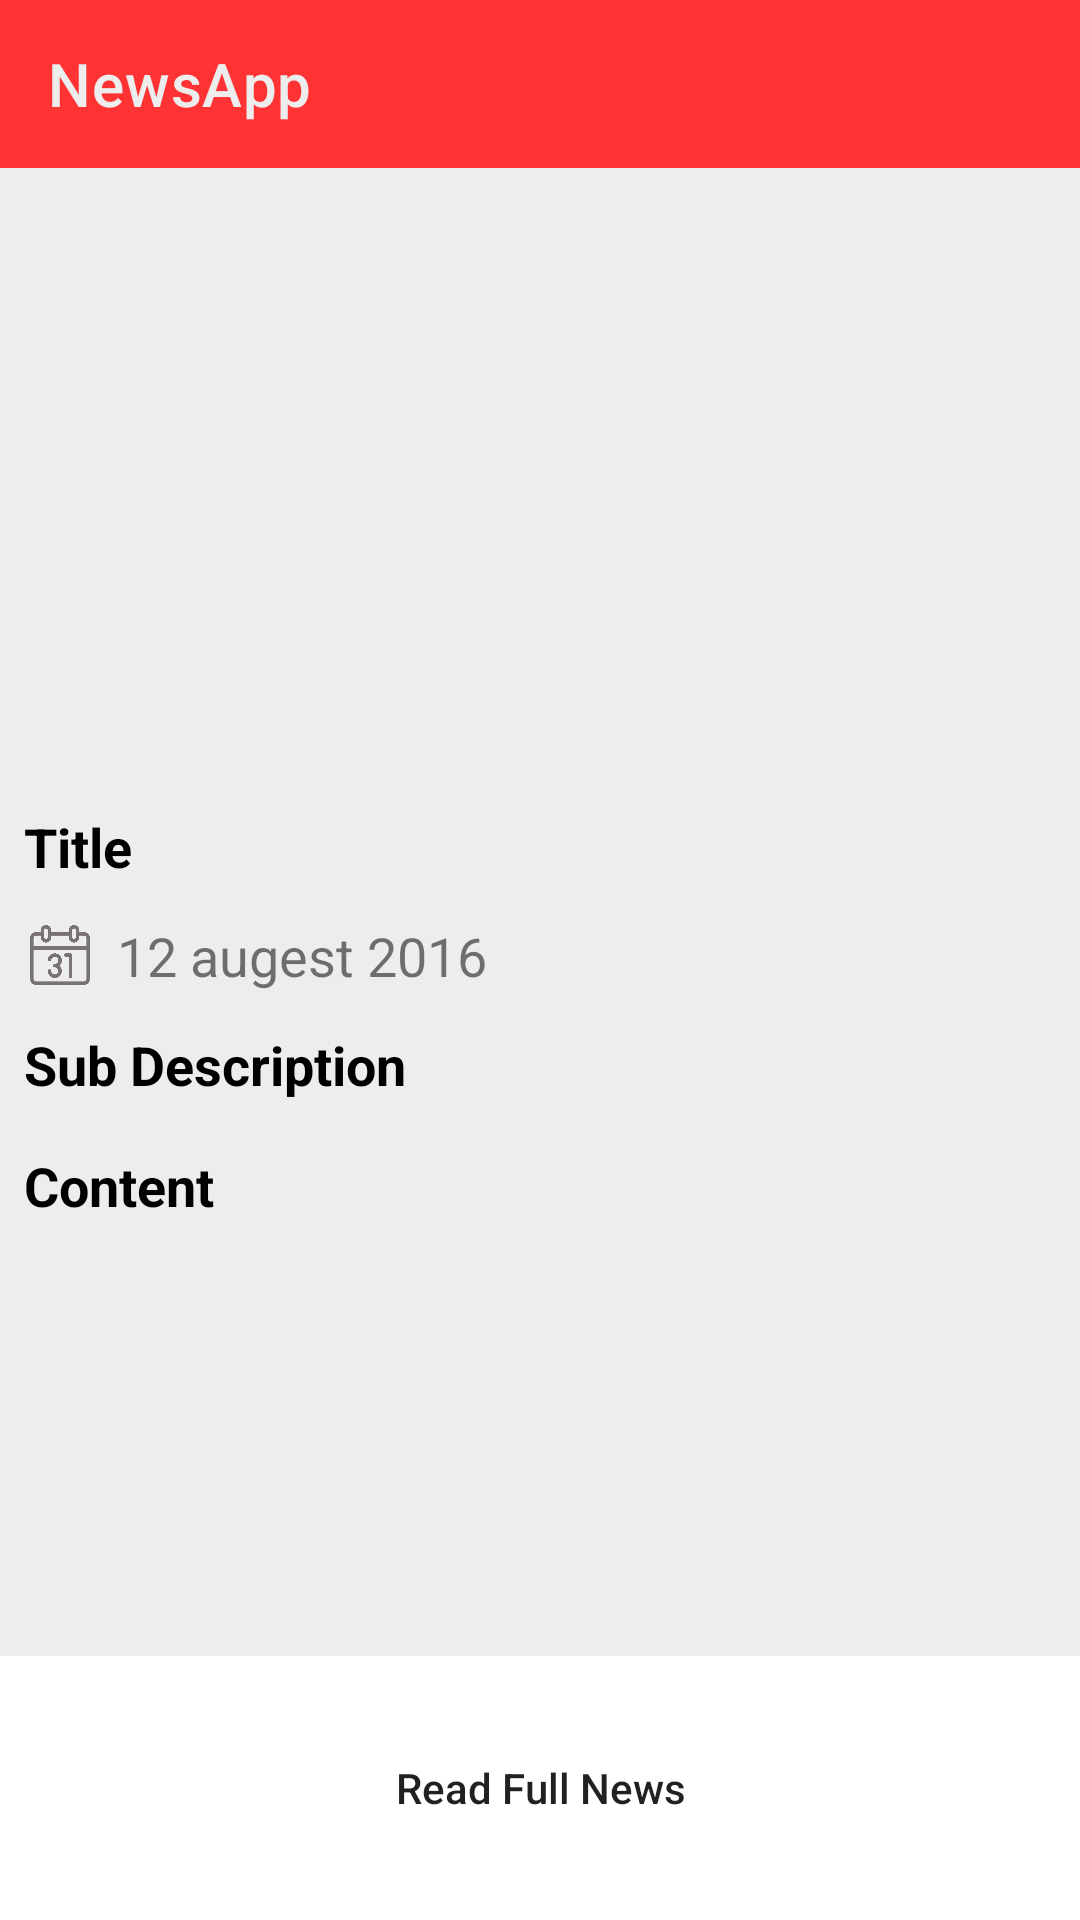

Icons on this 1080 x 1920 Android screen, each with its box as (x1, y1, x2, y2):
calendar: (30, 925, 90, 985)
